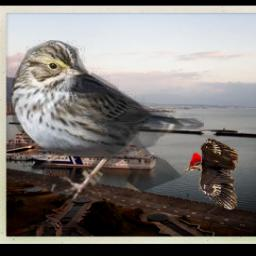Sparrow: (11, 41, 205, 202)
Woodpecker: (185, 139, 239, 210)
